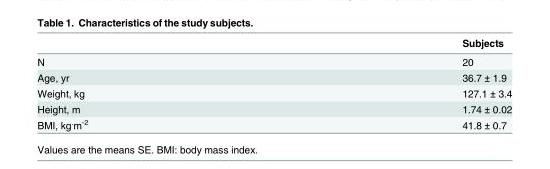table: (36, 36, 511, 130)
table column: (36, 36, 274, 130), (274, 36, 511, 130)
table column header: (36, 36, 511, 51)
table row: (36, 51, 511, 69), (36, 69, 511, 85), (36, 36, 511, 51), (36, 85, 511, 100), (36, 100, 511, 115), (36, 115, 511, 130)
